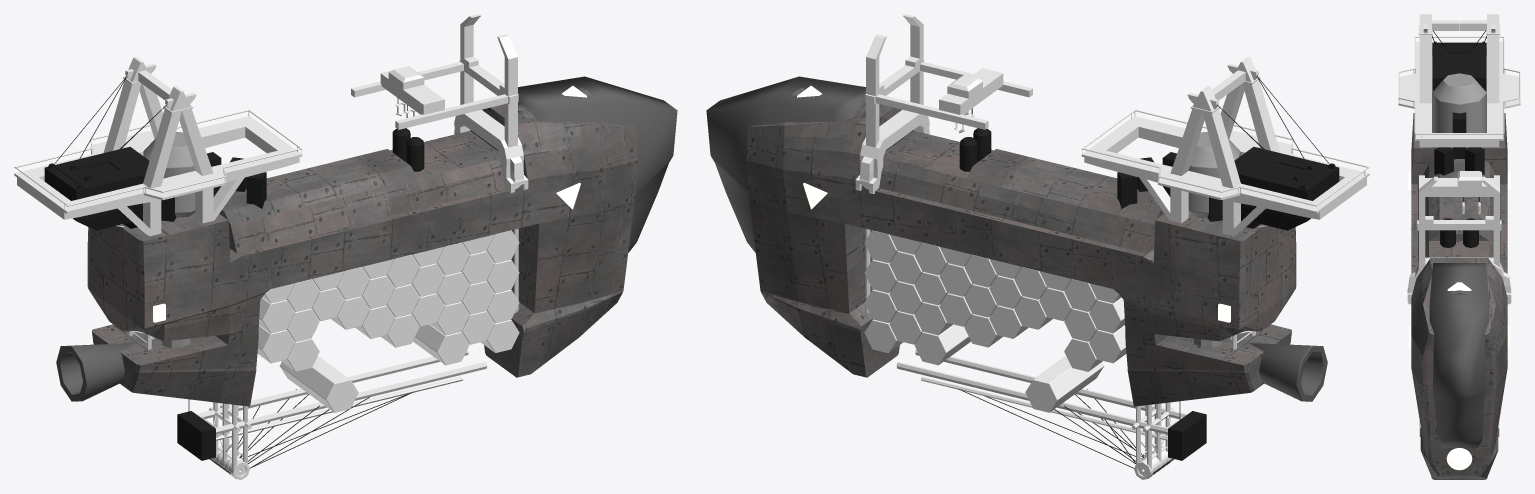
Rendered from cargo.glb.
3 renders of one model, left to right at view 1: azimuth 30°, elevation 25°; view 2: azimuth 150°, elevation 25°; view 3: azimuth 270°, elevation 25°, orthographic. The views are drawn at different scales.
Visible parts, largest first — view 1: Korpus, Cube.005, Front, Cube.006, Cube.001, Cube.007, Cylinder, Cylinder.015, Cube.004, Cylinder.053, Cube, Cylinder.074 (+30 smaller); view 2: Korpus, Cube.006, Front, Cube.005, Cube.001, Cube.007, Cylinder, Cylinder.015, Cube.004, Cylinder.052, Cube, Cylinder.074 (+30 smaller); view 3: Korpus, Front, Cube.005, Cube.006, Cube.001, Cylinder.074, Cube.007, Cube.004, Cube.008, Cube.009, Sphere, Cube.010 (+5 smaller).
Boxes of the visible parts, x1,y1,x2,y2 form: Korpus: (87,87,637,406); Cube.005: (40,82,302,236); Front: (518,76,677,252); Cube.006: (14,57,275,202); Cube.001: (454,14,528,193); Cube.007: (44,146,162,230); Cylinder: (56,343,134,401); Cylinder.015: (280,356,358,412); Cube.004: (380,66,444,114); Cylinder.053: (215,362,487,434); Cube: (177,411,215,460); Cylinder.074: (143,132,195,217); Korpus: (746,87,1296,406); Cube.006: (1081,82,1343,236); Front: (706,76,865,252); Cube.005: (1108,57,1369,202); Cube.001: (855,14,929,193); Cube.007: (1221,146,1339,230); Cylinder: (1249,343,1327,401); Cylinder.015: (1025,356,1103,412); Cube.004: (939,68,1003,114); Cylinder.052: (896,362,1168,434); Cube: (1168,411,1206,460); Cylinder.074: (1188,132,1240,217); Korpus: (1411,113,1507,479); Front: (1429,263,1489,447); Cube.005: (1398,14,1459,147); Cube.006: (1459,14,1520,147); Cube.001: (1407,176,1511,304); Cylinder.074: (1432,73,1486,132); Cube.007: (1432,41,1486,91); Cube.004: (1423,171,1495,196); Cube.008: (1434,147,1453,175); Cube.009: (1465,147,1484,174); Sphere: (1446,448,1472,470); Cube.010: (1452,112,1466,158).
Bounding box in the file's own units: 19.43 × 12.24 × 3.86.
Materials: 7 (3 with a texture image).
